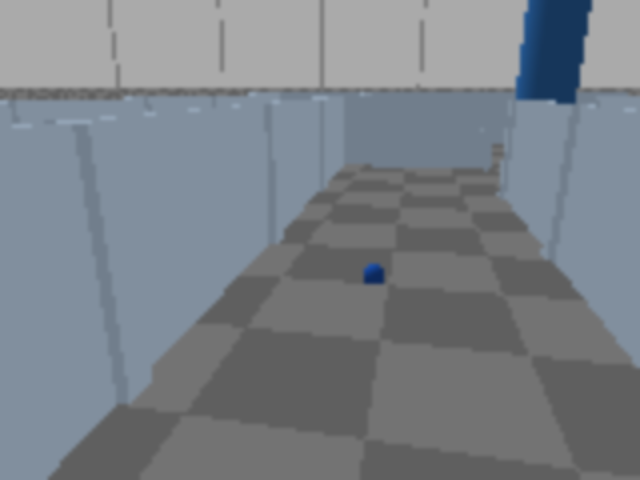puck: (359, 259, 389, 291)
